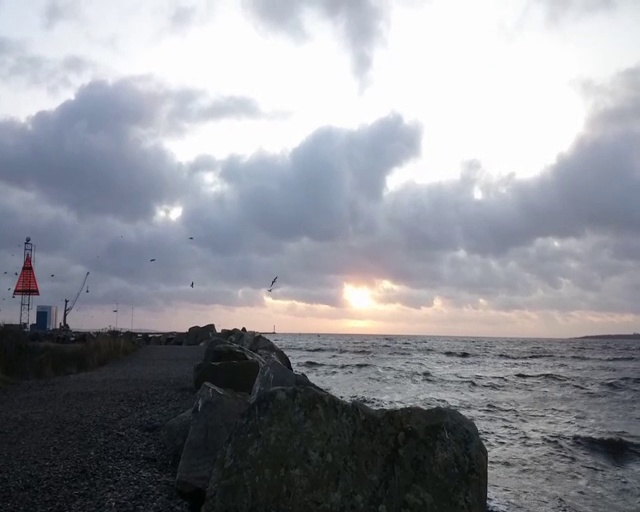BIRD: (54, 271, 91, 330)
